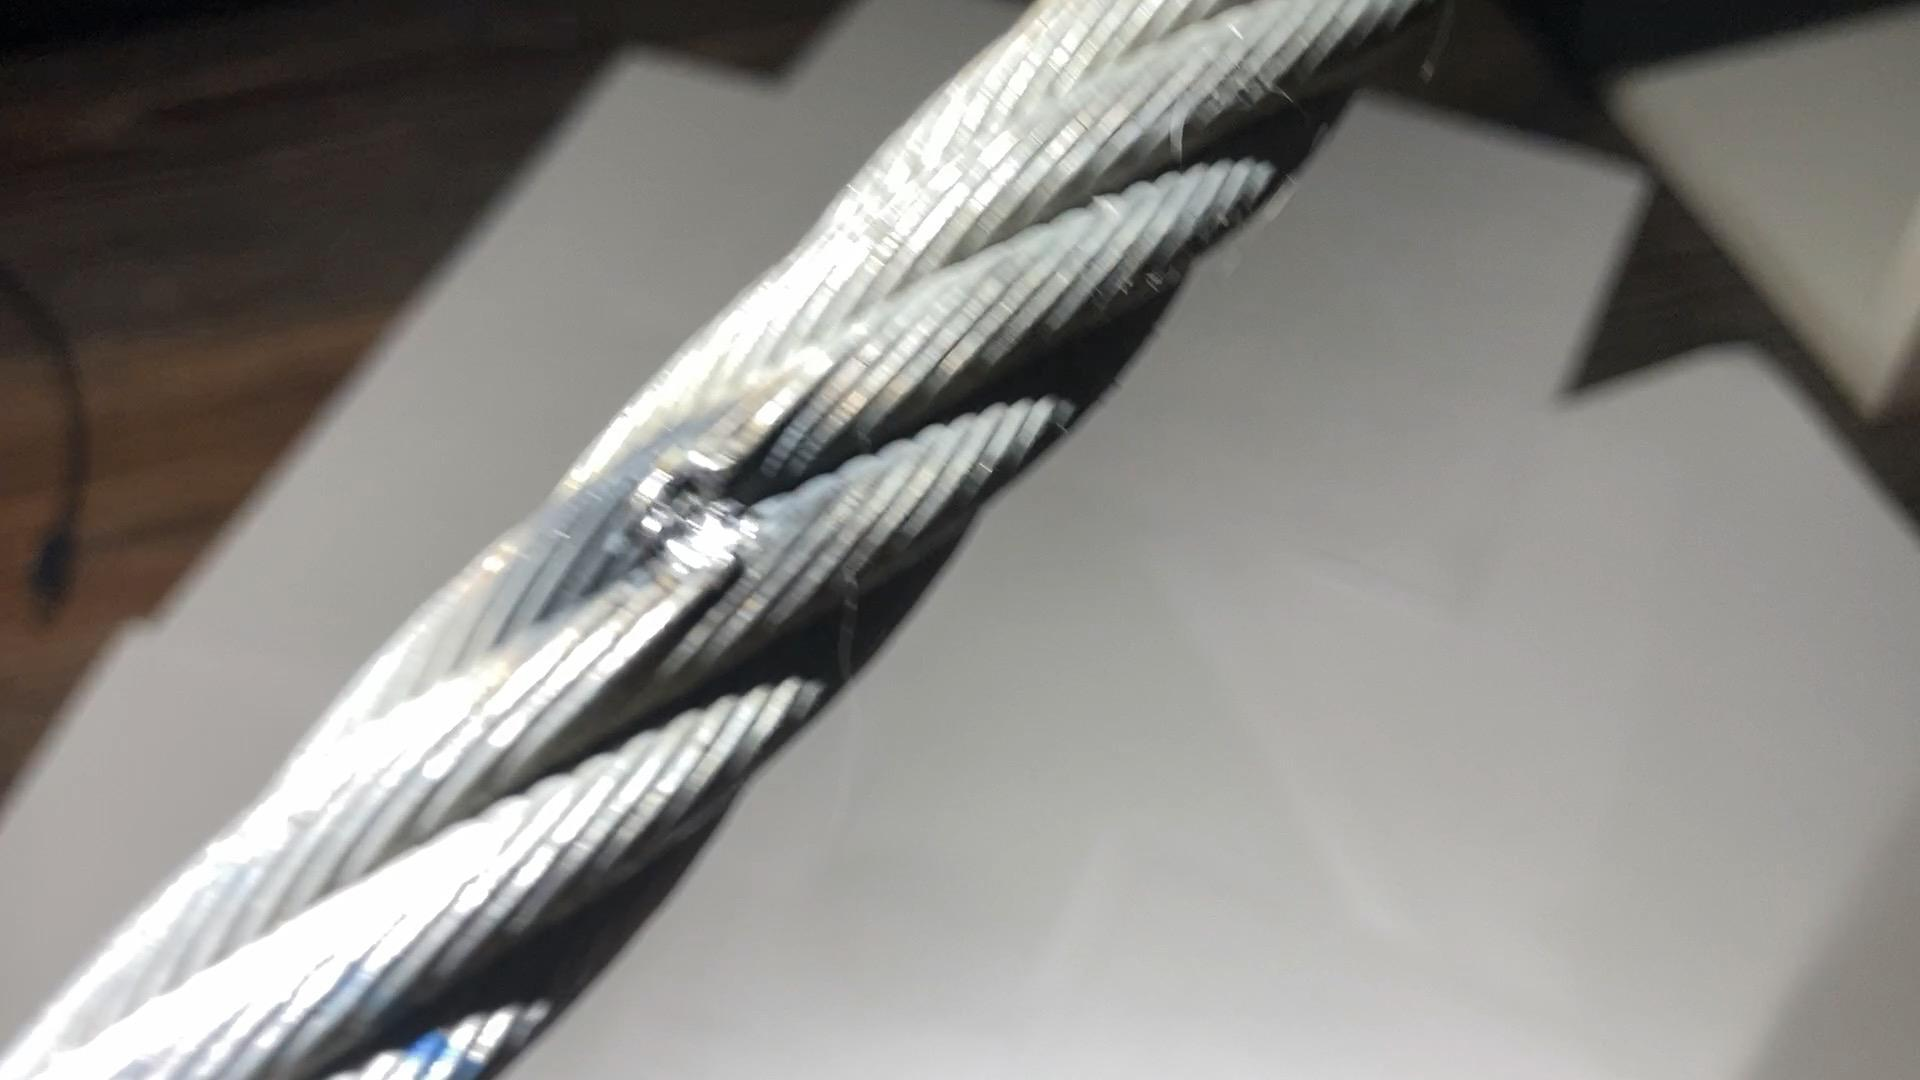thunderbolt: (608, 436, 778, 578)
